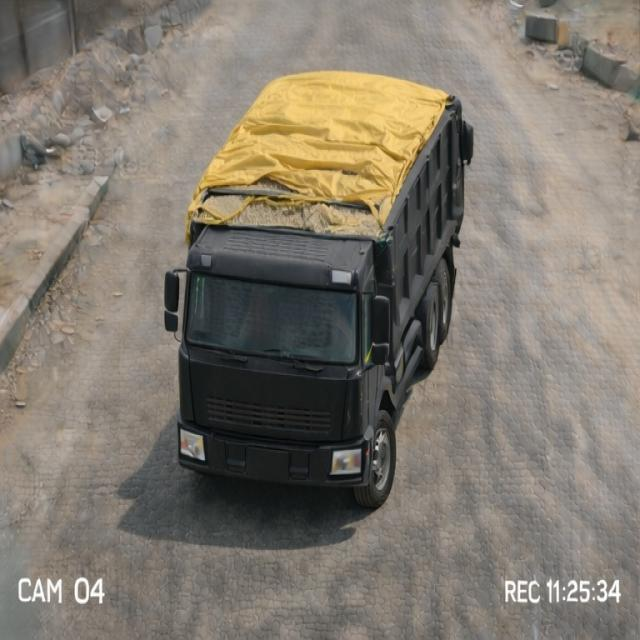trailer: (188, 71, 460, 226)
truck: (164, 58, 501, 513)
